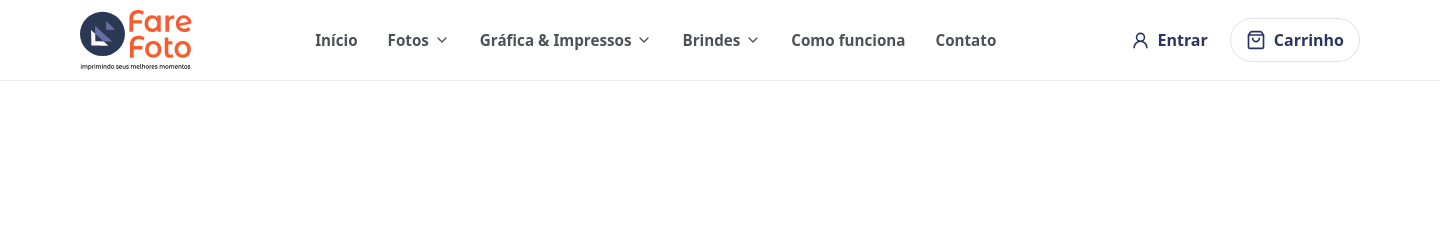
Test: Header › junta Brindes e Categorias num item só, que abre as categorias ao passar o mouse
Step 1. Hover over the link "Brindes" → (722, 40), box [682,1,761,79]
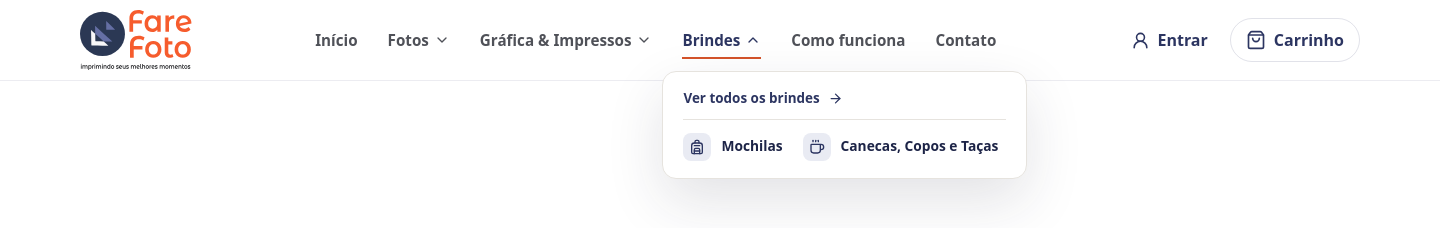
Result: the link "Brindes" is expanded
Step 2. Move the pointer off the link "Brindes", box [682,1,761,79]
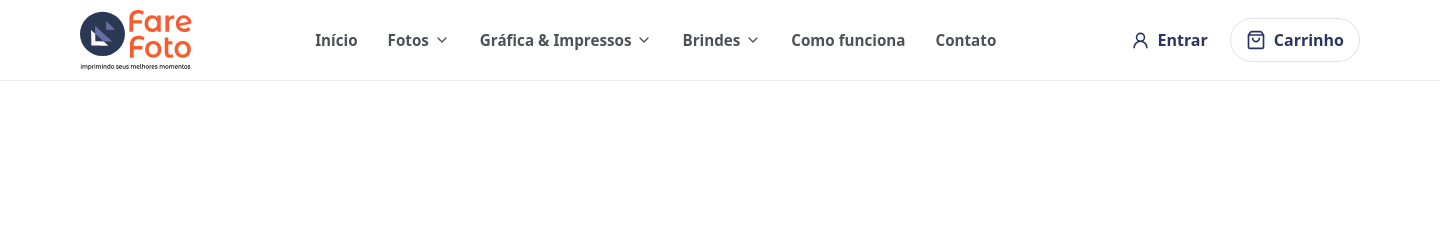
Result: the link "Brindes" is collapsed at [682,1,761,79]
